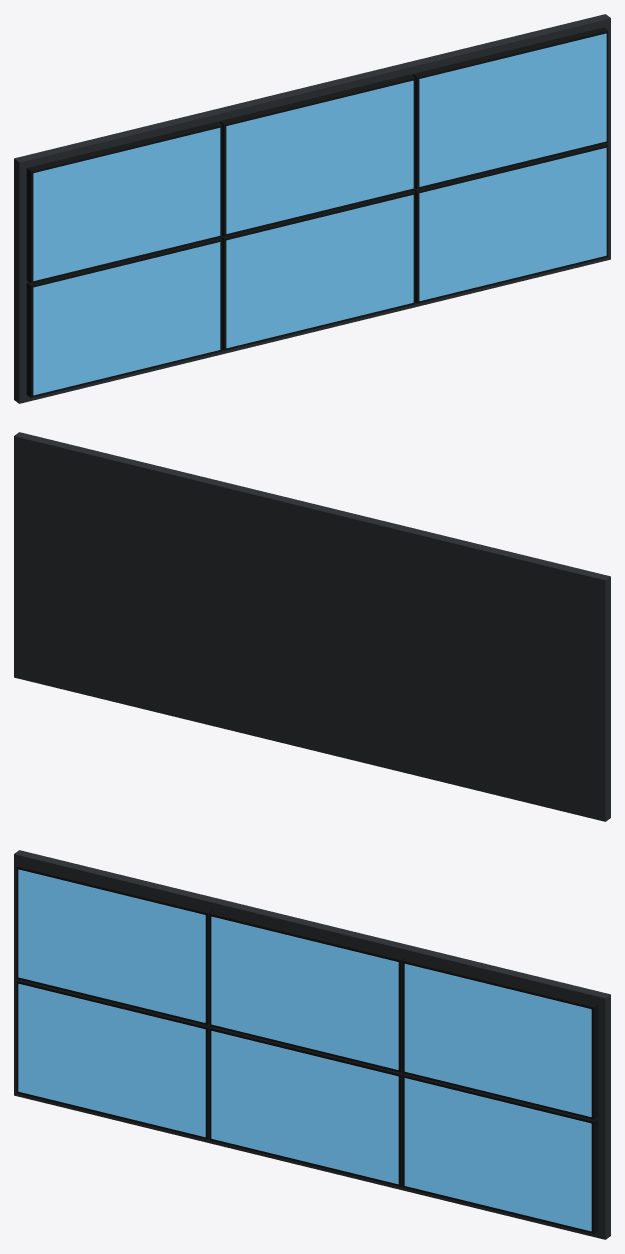
The model's file is PROP_VideoWall_3x2.glb.
3 views of the same model, one above another, from view 1: azimuth 30°, elevation 25°; view 2: azimuth 150°, elevation 25°; view 3: azimuth 330°, elevation 25° (orthographic).
Visible parts, largest first — view 1: PROP_VideoWall_3x2_Screens, PROP_VideoWall_3x2_Mesh; view 2: PROP_VideoWall_3x2_Mesh; view 3: PROP_VideoWall_3x2_Screens, PROP_VideoWall_3x2_Mesh.
Part boxes in pixels (x1,y1,x2,y2): PROP_VideoWall_3x2_Screens: (33,33,606,395); PROP_VideoWall_3x2_Mesh: (14,14,610,403); PROP_VideoWall_3x2_Mesh: (14,432,610,821); PROP_VideoWall_3x2_Screens: (18,869,591,1231); PROP_VideoWall_3x2_Mesh: (14,850,610,1239).
Bounding box in the file's own units: 3.74 × 1.46 × 0.114.
